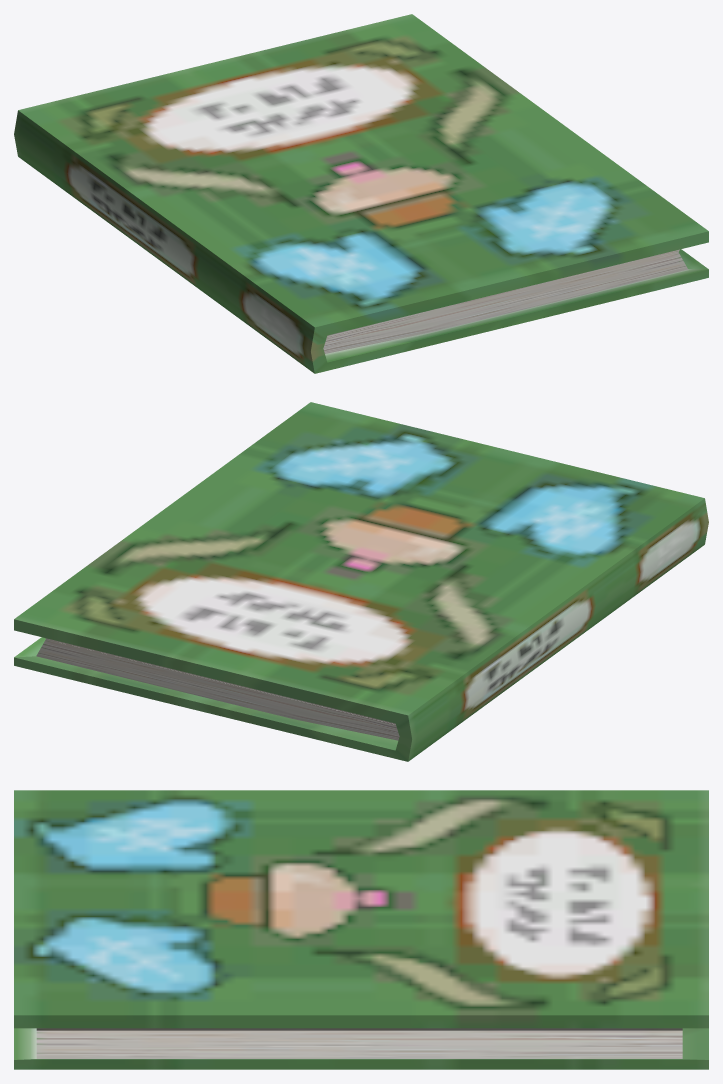
File: libroReposteria1.fbx
The picture shows the model from 3 angles, top to bottom: view 1: azimuth 30°, elevation 25°; view 2: azimuth 150°, elevation 25°; view 3: azimuth 270°, elevation 25°; orthographic projection. The views are drawn at different scales.
Parts seen in each view (by area): view 1: s4studio_mesh_0; view 2: s4studio_mesh_0; view 3: s4studio_mesh_0.
Boxes of the visible parts, x1=… form: s4studio_mesh_0: x1=14, y1=14, x2=708, y2=373; s4studio_mesh_0: x1=14, y1=402, x2=708, y2=761; s4studio_mesh_0: x1=14, y1=790, x2=708, y2=1069.
Bounding box in the file's own units: 16.25 × 1.81 × 20.98.
1 material, 1 textured.
